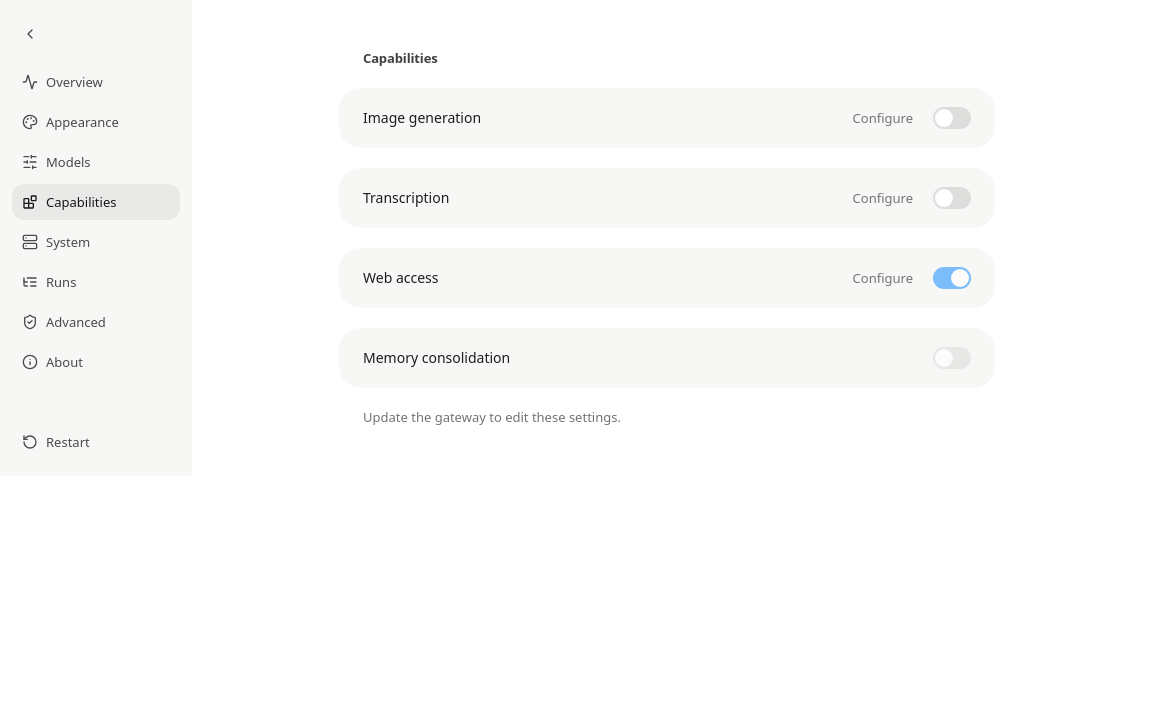
Settings capabilities › reveals the configured transcription provider and model when enabled
Click the switch named "Transcription" at (952, 198), box 933,187 -> 971,209
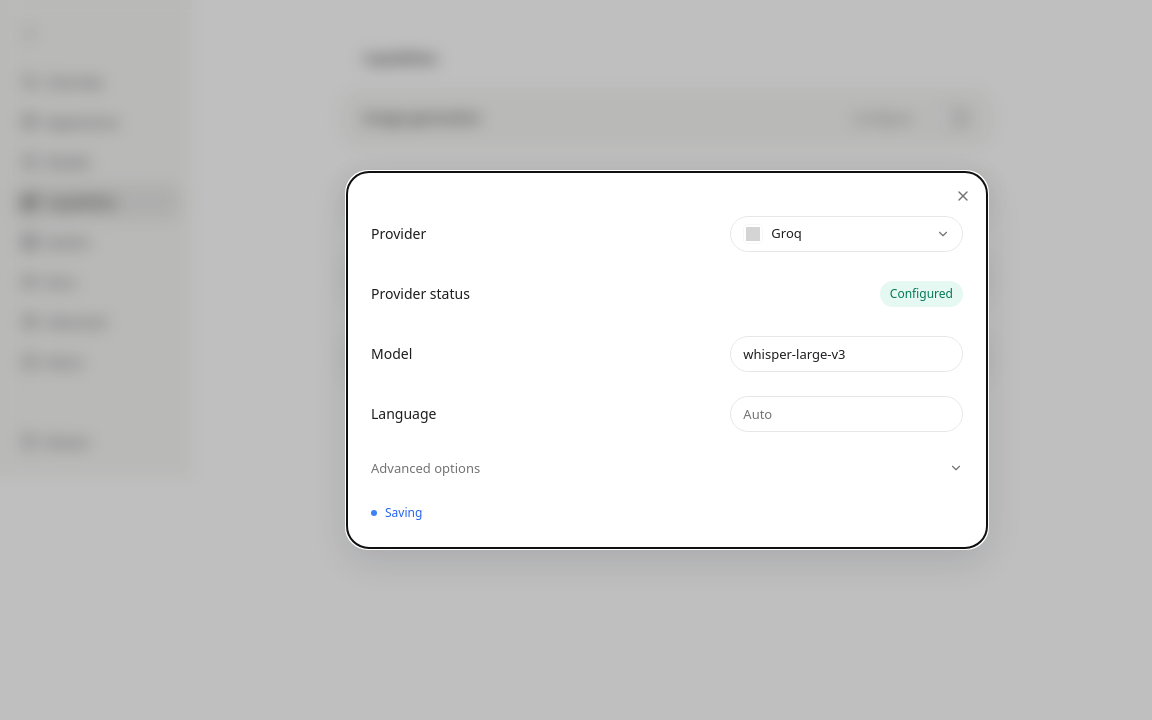
Check: the dropdown labelled "Groq" is shown, box 730,216 -> 963,252
Check: the field showing "whisper-large-v3" is shown, box 730,336 -> 963,372
